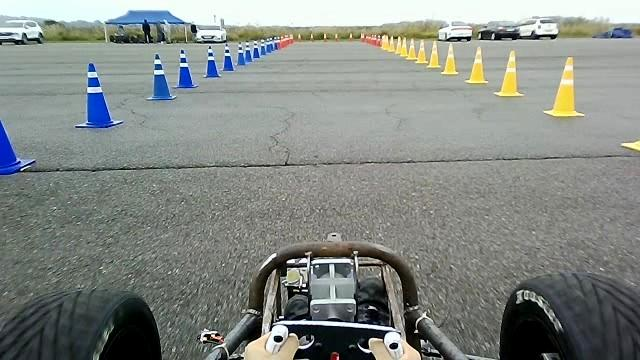blue cone: (74, 61, 123, 128), (146, 53, 176, 101), (172, 48, 198, 88), (203, 45, 221, 78), (221, 43, 235, 71), (236, 41, 246, 65)
yellow cone: (542, 55, 585, 117), (493, 50, 524, 97), (464, 46, 488, 83), (440, 42, 458, 75), (426, 40, 441, 68)
